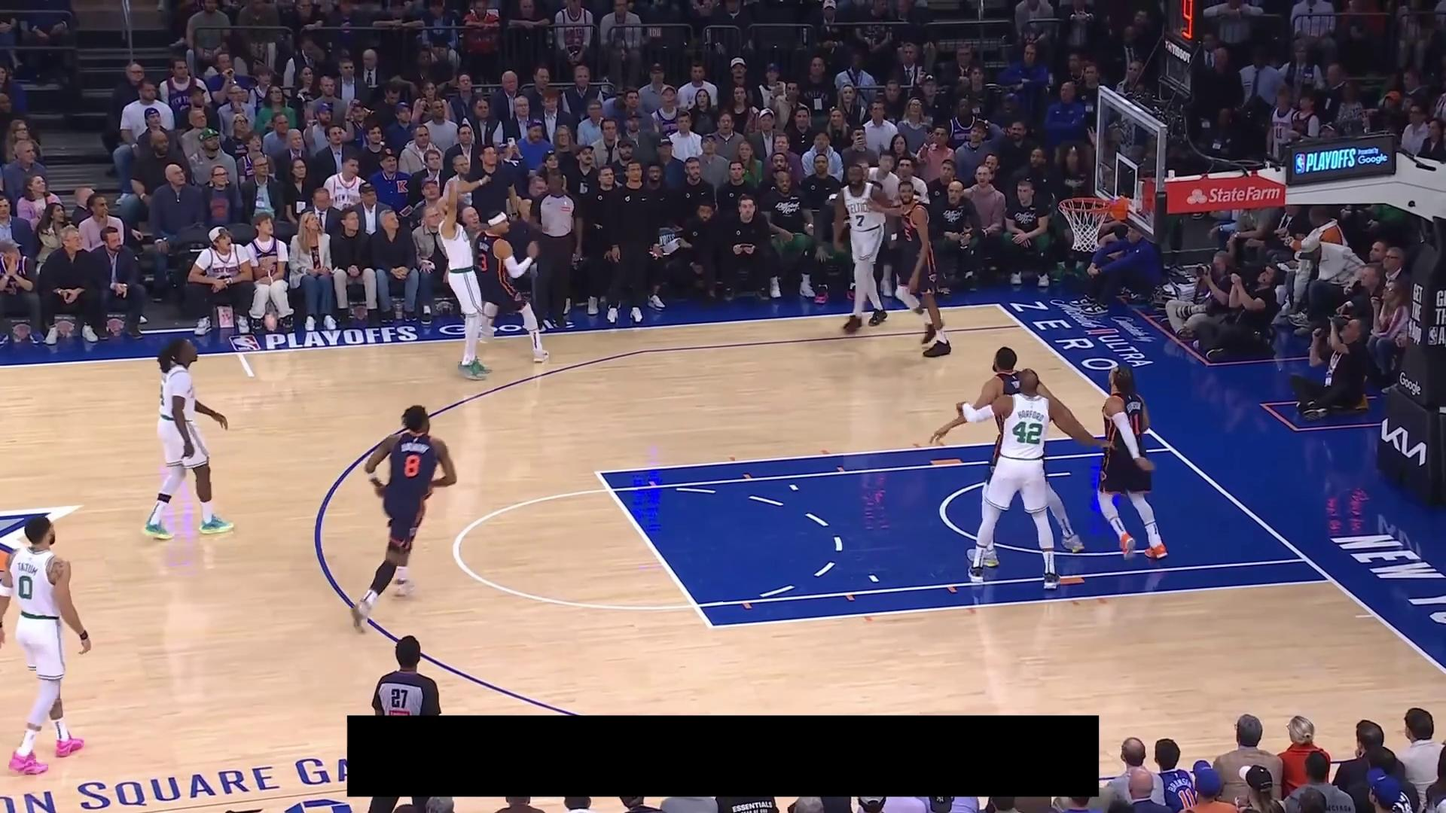number: (1012, 421, 1042, 446), (404, 454, 421, 478), (18, 574, 33, 600), (477, 251, 488, 272), (854, 213, 866, 228)
player: (926, 346, 1086, 569), (956, 368, 1113, 591), (348, 403, 458, 637), (0, 514, 93, 776), (142, 335, 236, 541), (868, 178, 952, 359), (1098, 365, 1169, 559), (468, 207, 551, 371), (435, 173, 496, 381), (831, 160, 897, 335)
referee: (371, 635, 443, 813), (526, 169, 584, 332)
rim: (1058, 196, 1111, 213)
